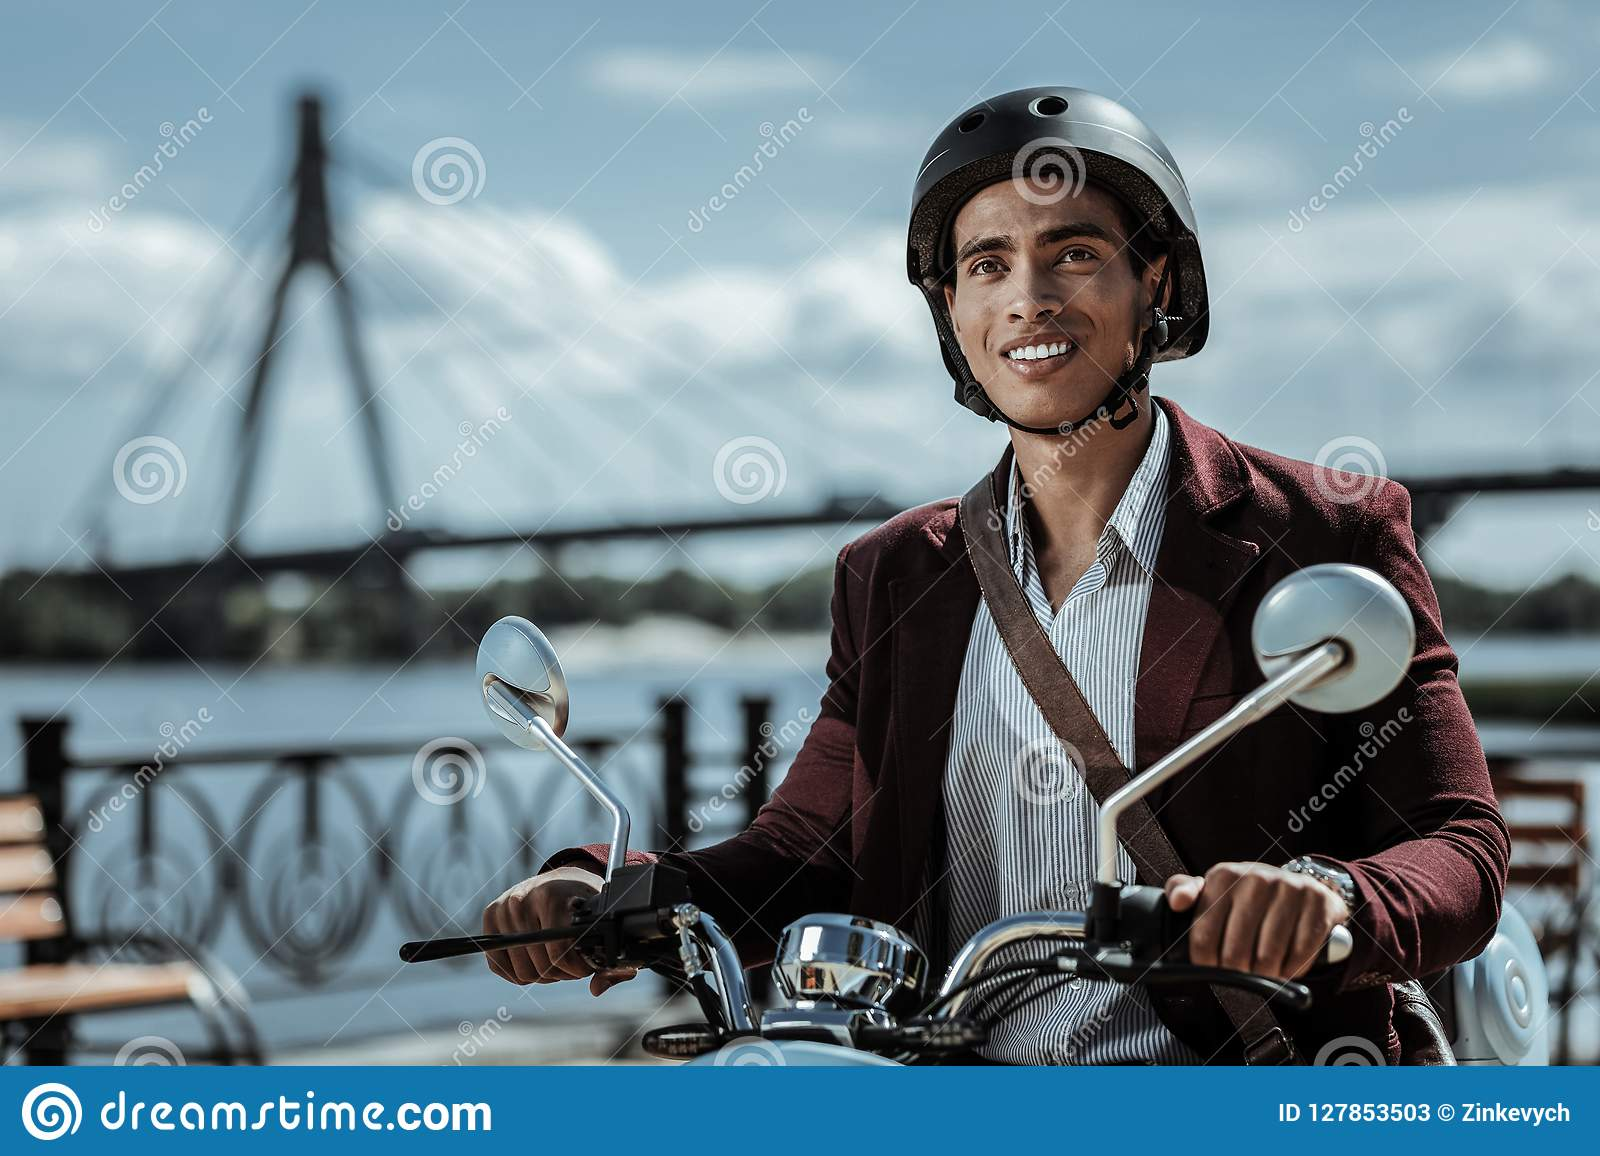helmet: (889, 103, 1241, 322)
